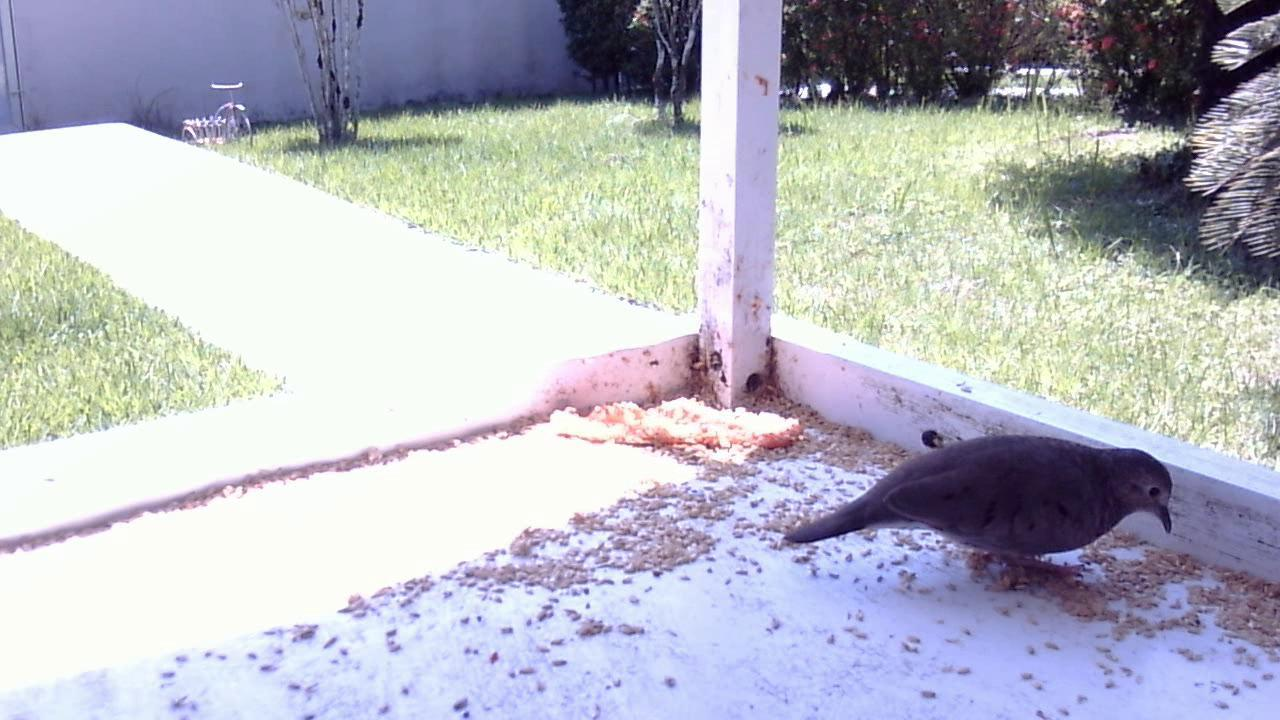rolinha: (775, 420, 1180, 592)
